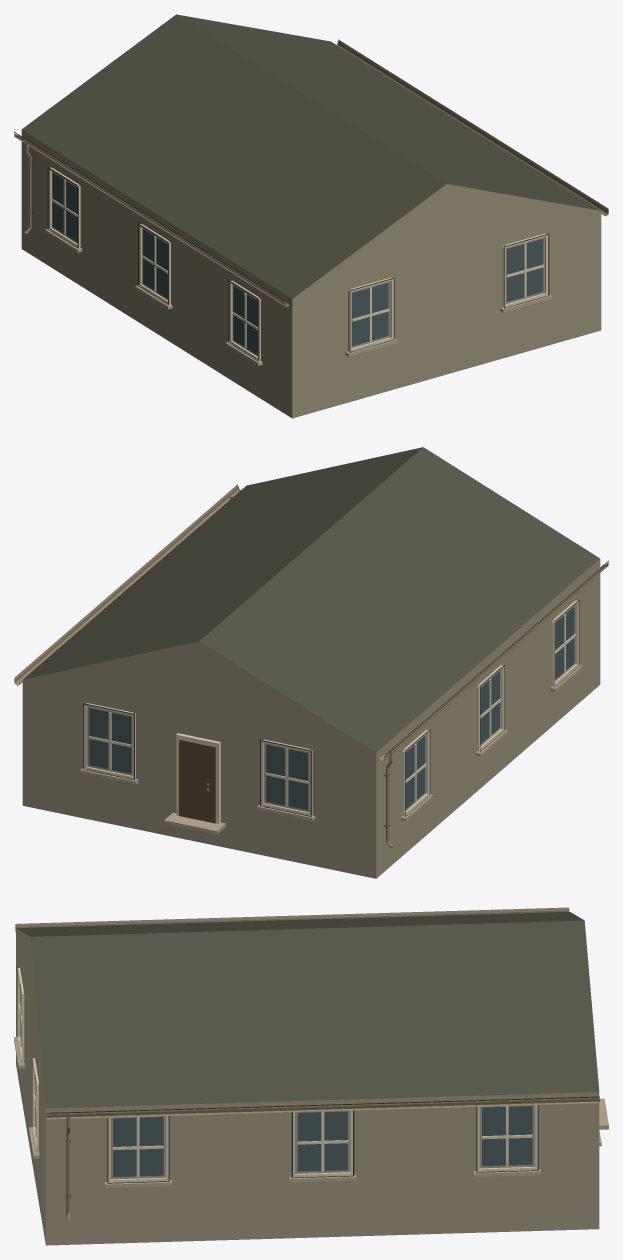
3 renders of one model, top to bottom at view 1: azimuth 30°, elevation 25°; view 2: azimuth 150°, elevation 25°; view 3: azimuth 270°, elevation 25°, orthographic. The views are drawn at different scales.
Visible parts, largest first — view 1: -15_1_619854407_0; view 2: -15_1_619854407_0; view 3: -15_1_619854407_0.
Part boxes in pixels (x1,y1,x2,y2): -15_1_619854407_0: [14, 14, 608, 418]; -15_1_619854407_0: [14, 447, 608, 878]; -15_1_619854407_0: [14, 907, 608, 1245].
Size of the model in its own units: 11.42 by 5.66 by 13.97.
